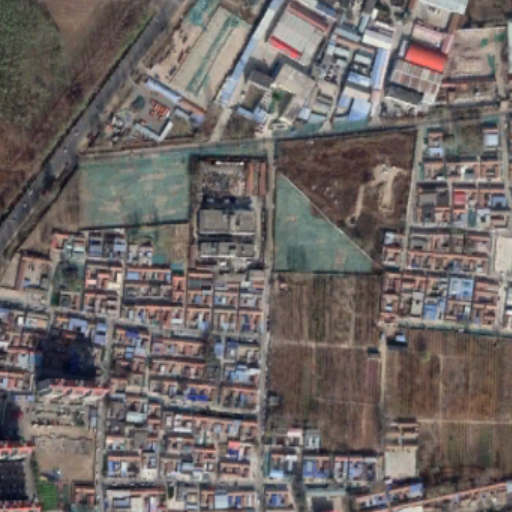cw: (76, 135, 269, 229), (275, 169, 384, 275)
